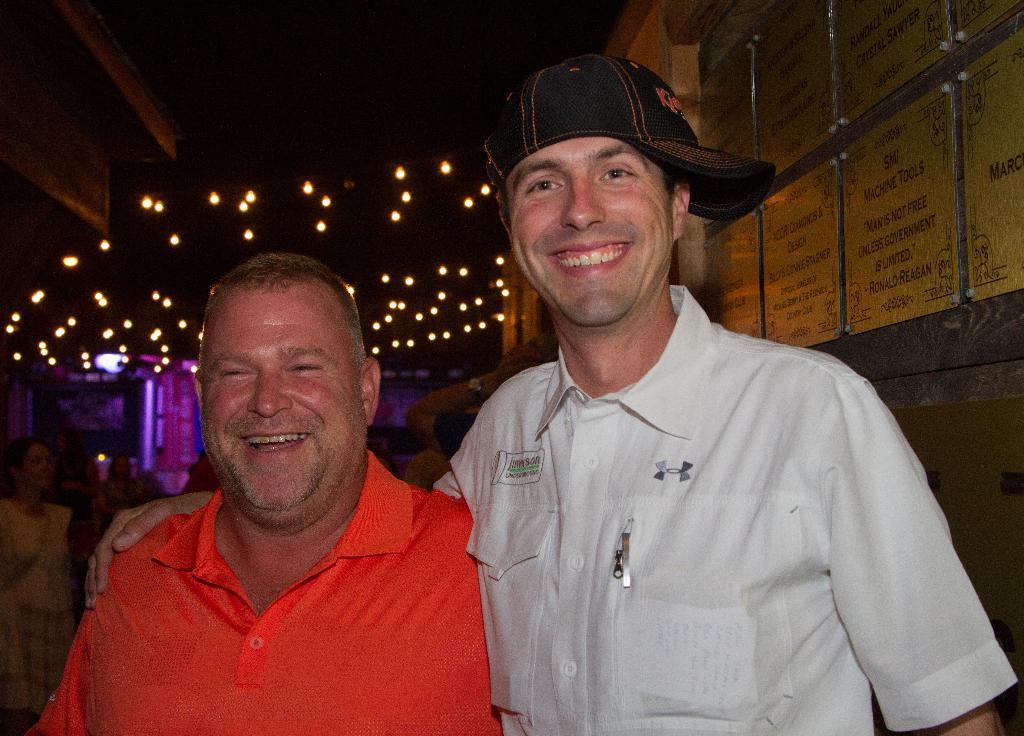Hat: (478, 58, 778, 221)
